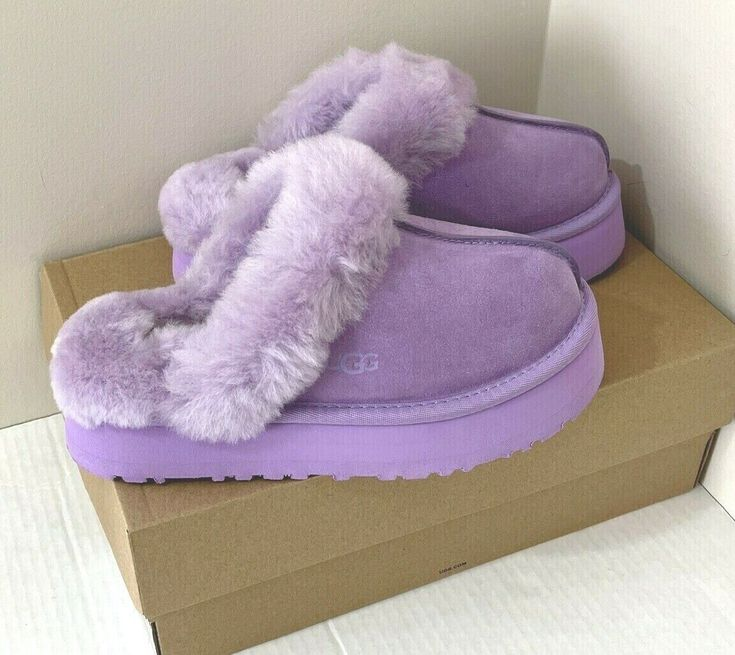gamuza: (287, 104, 614, 405)
